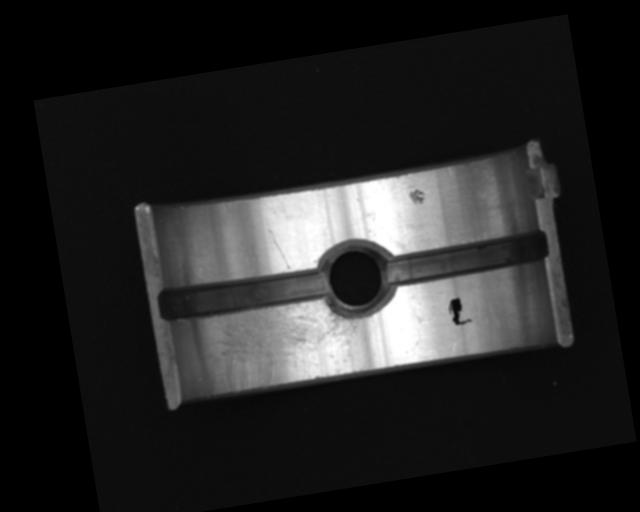blot: (446, 294, 472, 327)
bruise: (407, 187, 427, 206)
gap: (156, 261, 331, 327), (382, 229, 549, 289)
hole: (317, 237, 397, 323)
nick: (268, 227, 291, 272)
scratch: (194, 295, 367, 397)
